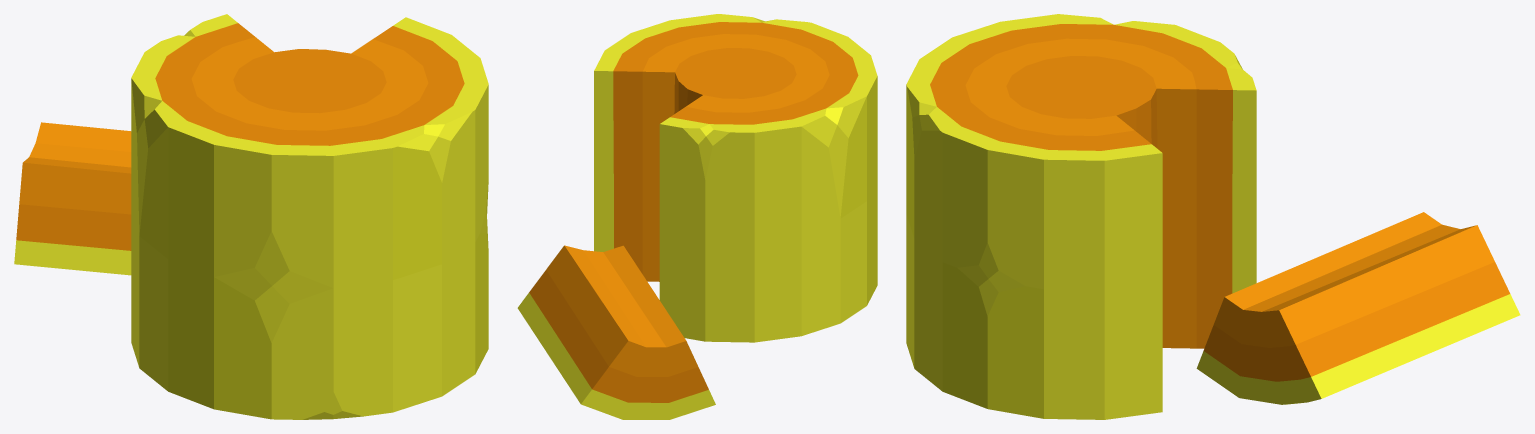
Rendered from Tree log_18.fbx.
The picture shows the model from 3 angles, left to right: view 1: azimuth 30°, elevation 25°; view 2: azimuth 150°, elevation 25°; view 3: azimuth 270°, elevation 25°; orthographic projection. The views are drawn at different scales.
Visible parts, largest first — view 1: Circle.336, Circle.337; view 2: Circle.336, Circle.337; view 3: Circle.336, Circle.337.
Part boxes in pixels (<box>): Circle.336: <box>131,14,488,419</box>; Circle.337: <box>14,122,131,275</box>; Circle.336: <box>594,14,877,342</box>; Circle.337: <box>517,245,715,419</box>; Circle.336: <box>906,14,1256,419</box>; Circle.337: <box>1196,212,1520,404</box>.
Bounding box in the file's own units: 23.35 × 20.33 × 41.28.
